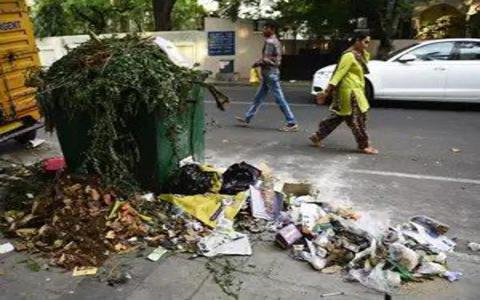overflowing garbage: (46, 34, 237, 265)
